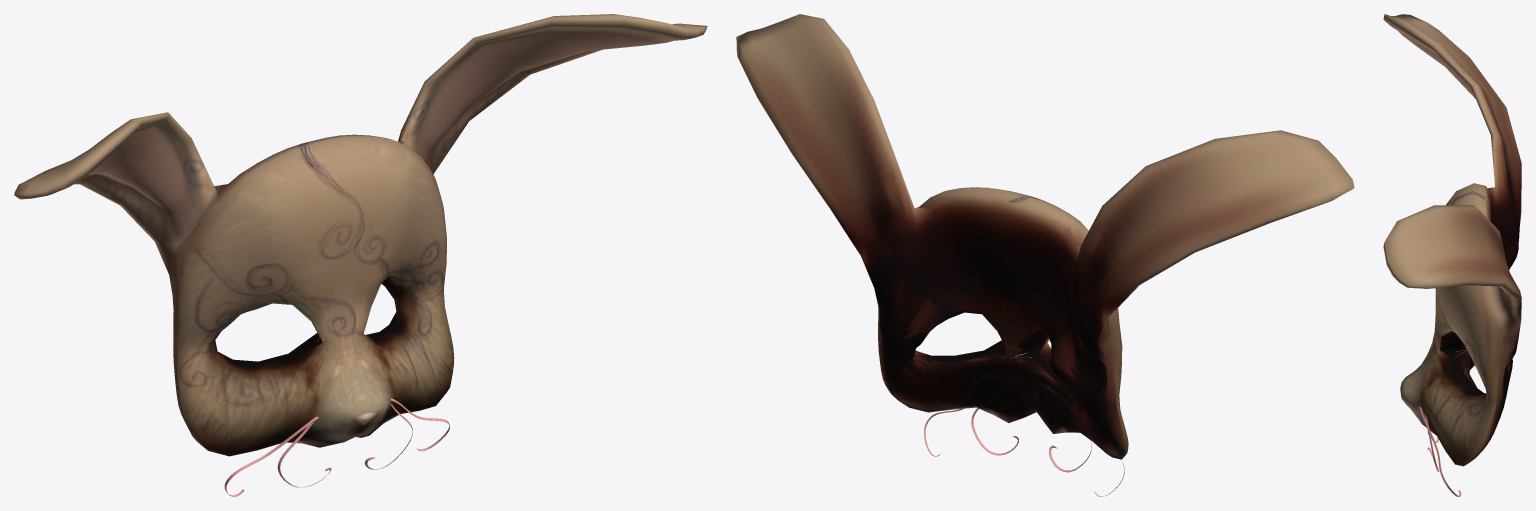
File: Bunny mask.fbx
The picture shows the model from 3 angles, left to right: view 1: azimuth 30°, elevation 25°; view 2: azimuth 150°, elevation 25°; view 3: azimuth 270°, elevation 25°; orthographic projection. The views are drawn at different scales.
Visible parts, largest first — view 1: Plane; view 2: Plane; view 3: Plane.
Boxes of the visible parts, <box> form: Plane: <box>14,14,707,496</box>; Plane: <box>736,14,1354,496</box>; Plane: <box>1383,14,1521,496</box>.
Size of the model in its own units: 640 by 372 by 138.
Materials: 2 (1 with a texture image).
